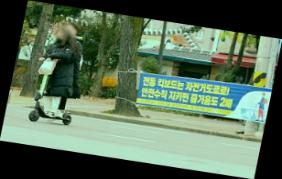multiple: (23, 18, 94, 128)
